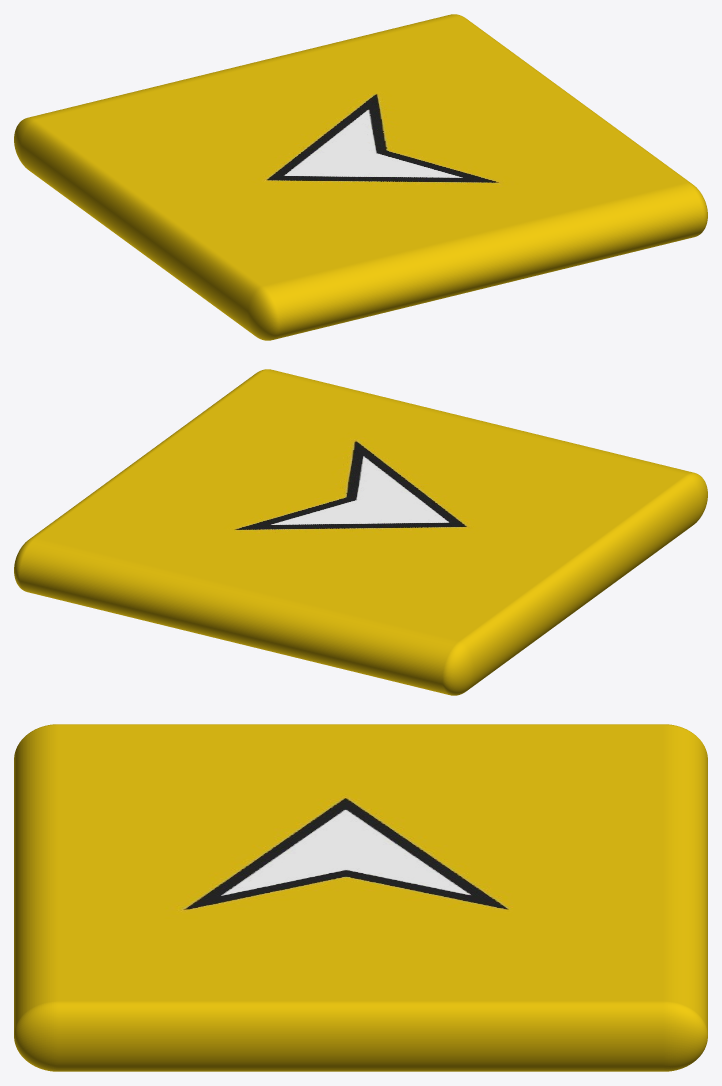
File: button_left.dae
3 views of the same model, one above another, from view 1: azimuth 30°, elevation 25°; view 2: azimuth 150°, elevation 25°; view 3: azimuth 270°, elevation 25° (orthographic). The views are drawn at different scales.
Visible parts, largest first — view 1: Plane; view 2: Plane; view 3: Plane.
Part boxes in pixels (x1,y1,x2,y2): Plane: [14, 14, 707, 340]; Plane: [14, 369, 707, 695]; Plane: [14, 724, 707, 1071].
Size of the model in its own units: 2 by 1.99 by 0.2189.
Materials: 1 (1 with a texture image).
